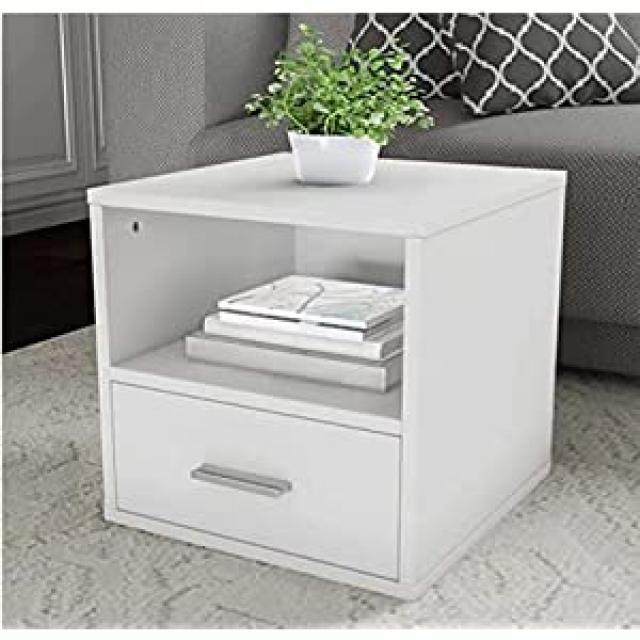beside table: (107, 142, 535, 572)
tree: (265, 39, 435, 155)
